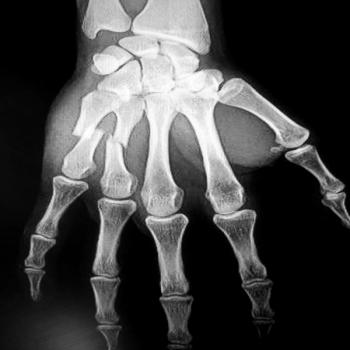Fracture: (97, 132, 138, 150), (66, 126, 108, 142)
